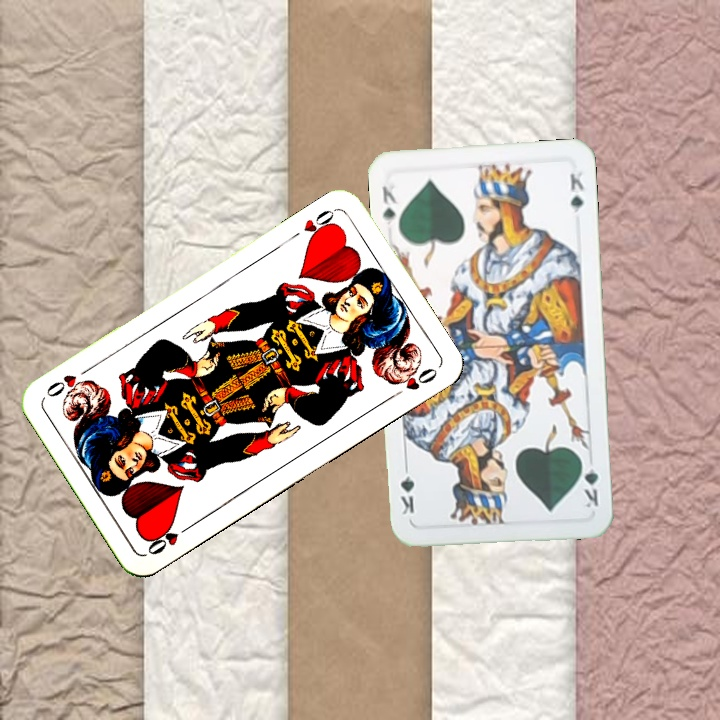GK: (577, 454, 601, 510), (378, 181, 400, 228)
HO: (143, 520, 195, 558), (299, 205, 339, 245)
